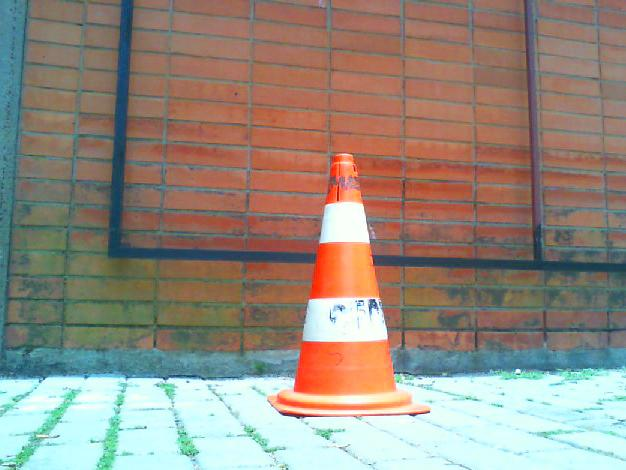0 cone: (268, 154, 428, 416)
